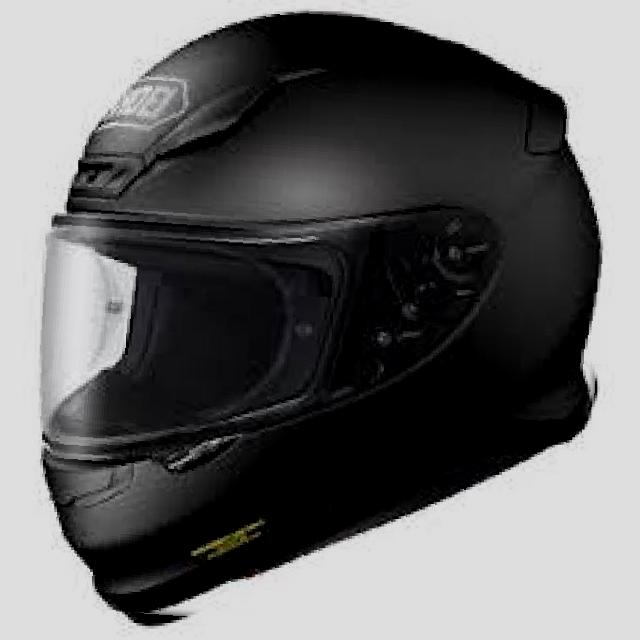helmet: (30, 2, 609, 633)
